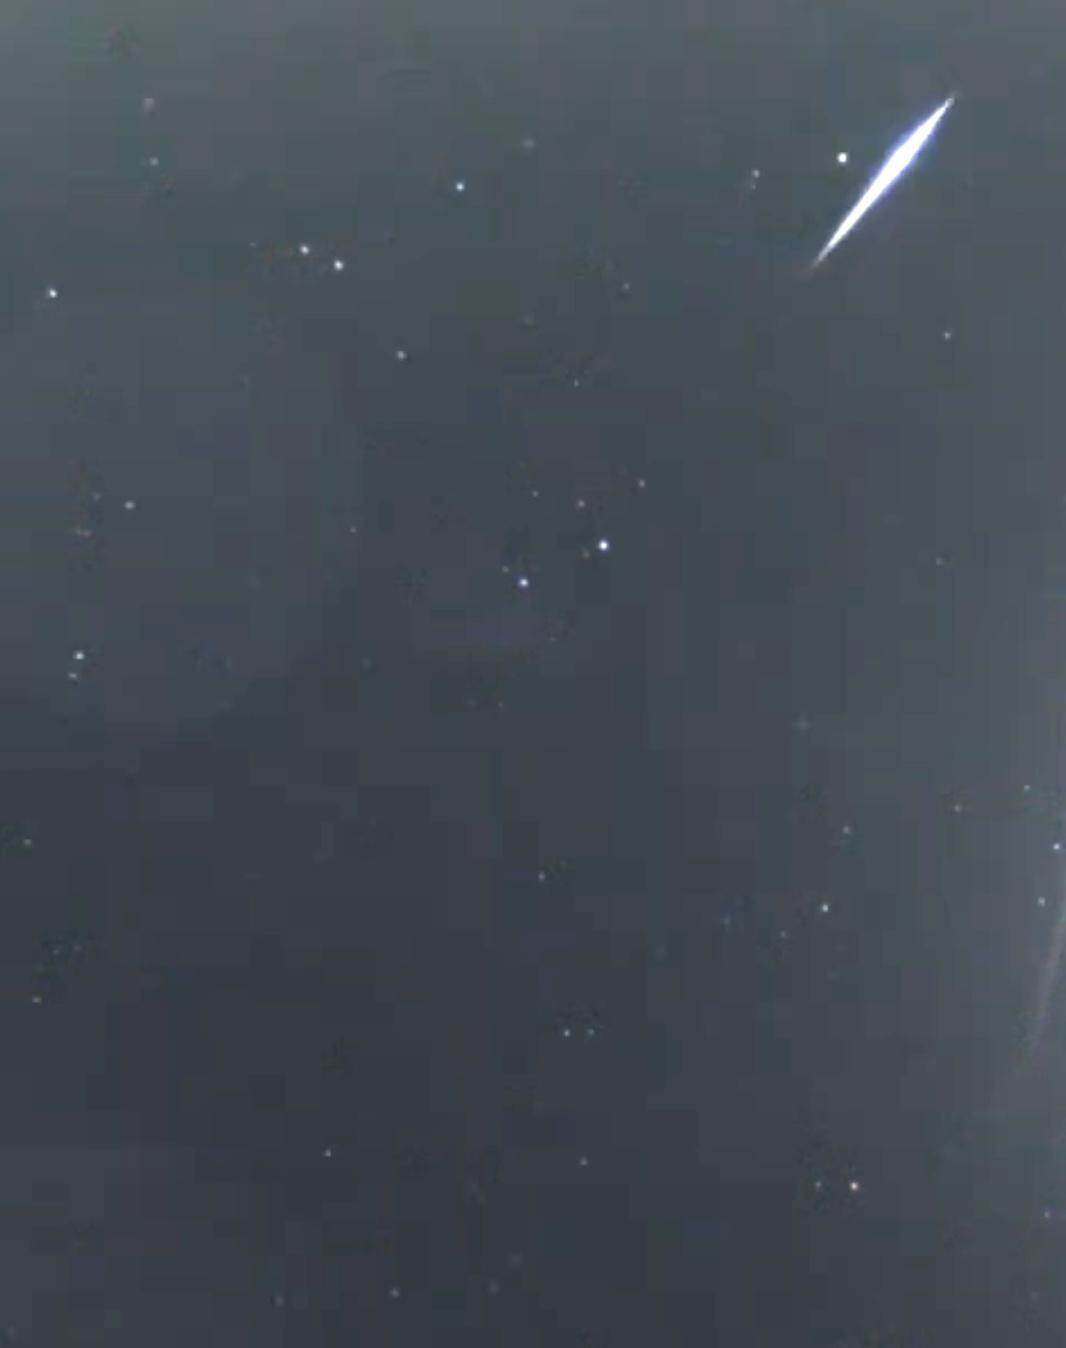meteorite: (772, 66, 996, 302)
